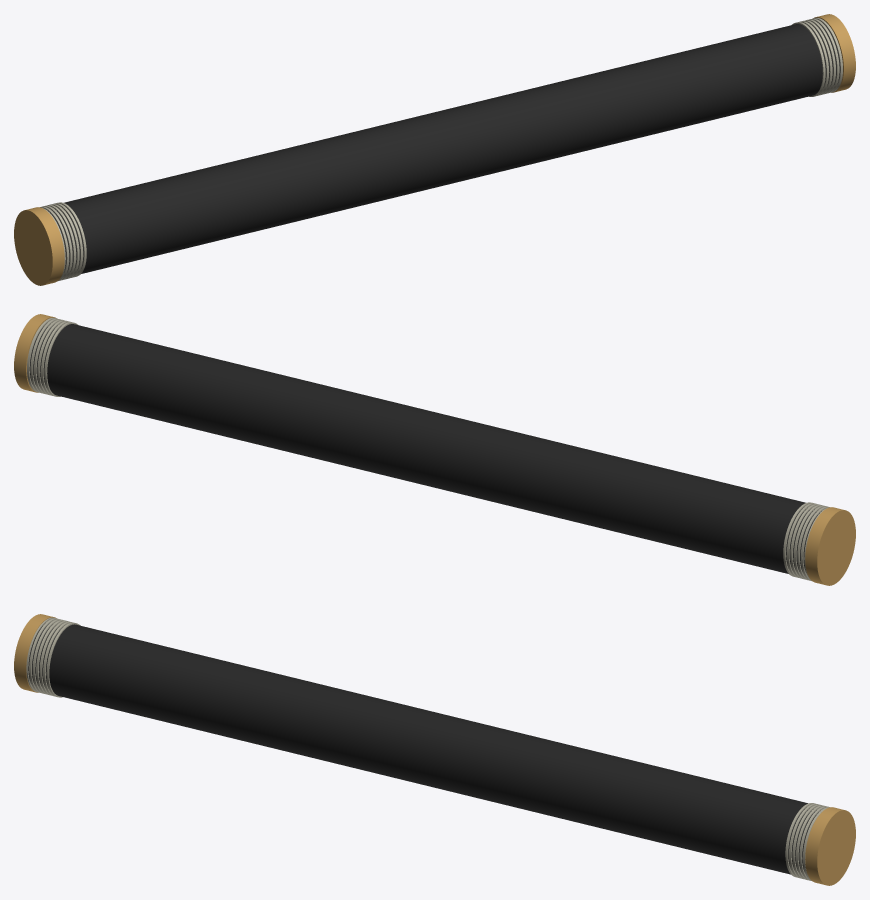
The model's file is Metropolitan.glb.
3 views of the same model, one above another, from view 1: azimuth 30°, elevation 25°; view 2: azimuth 150°, elevation 25°; view 3: azimuth 330°, elevation 25° (orthographic).
Parts seen in each view (by area): view 1: Rubber platen, Drum shoulder (×2); view 2: Rubber platen, Drum shoulder (×2); view 3: Rubber platen, Drum shoulder (×2).
Boxes of the visible parts, <box> form: Rubber platen: <box>48,23,840,273</box>; Drum shoulder (×2): <box>14,14,855,285</box>; Rubber platen: <box>29,323,821,573</box>; Drum shoulder (×2): <box>14,314,855,585</box>; Rubber platen: <box>28,623,818,874</box>; Drum shoulder (×2): <box>14,614,855,885</box>.
Size of the model in its own units: 6 by 0.502 by 0.502.
